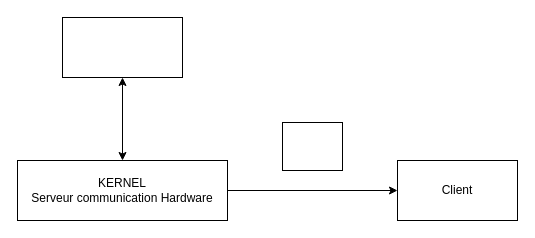
Some shapes in this 535 by 238 pixel diagram are drawn without their labels. Each missing label, with the centre of its shape:
Camera RGB-Depth: [122,47]
Human Position Landmarks: [312,146]
